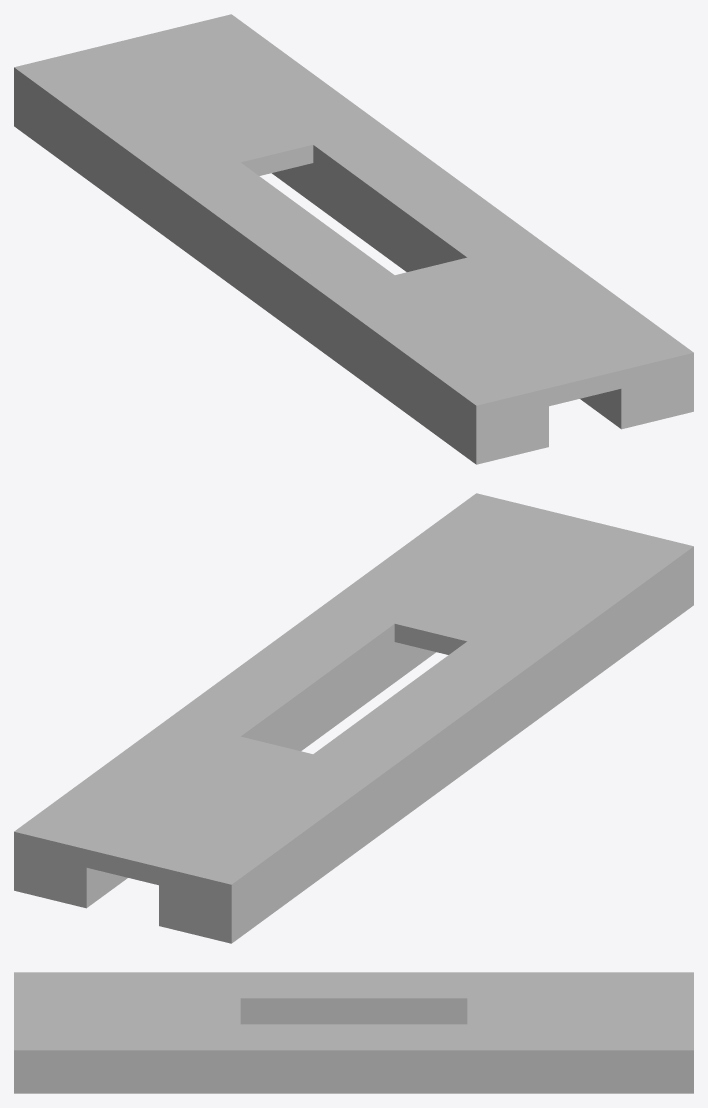
File: StartMenuMap.FBX
3 views of the same model, one above another, from view 1: azimuth 30°, elevation 25°; view 2: azimuth 150°, elevation 25°; view 3: azimuth 270°, elevation 25° (orthographic). The views are drawn at different scales.
Parts seen in each view (by area): view 1: Box001; view 2: Box001; view 3: Box001.
Part boxes in pixels (<box>): Box001: <box>14,14,693,464</box>; Box001: <box>14,493,693,943</box>; Box001: <box>14,972,693,1093</box>.
Size of the model in its own units: 993 by 257 by 3657.
Materials: 1 (1 with a texture image).
